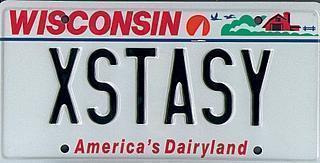placa de veiculo: (2, 2, 314, 158)
